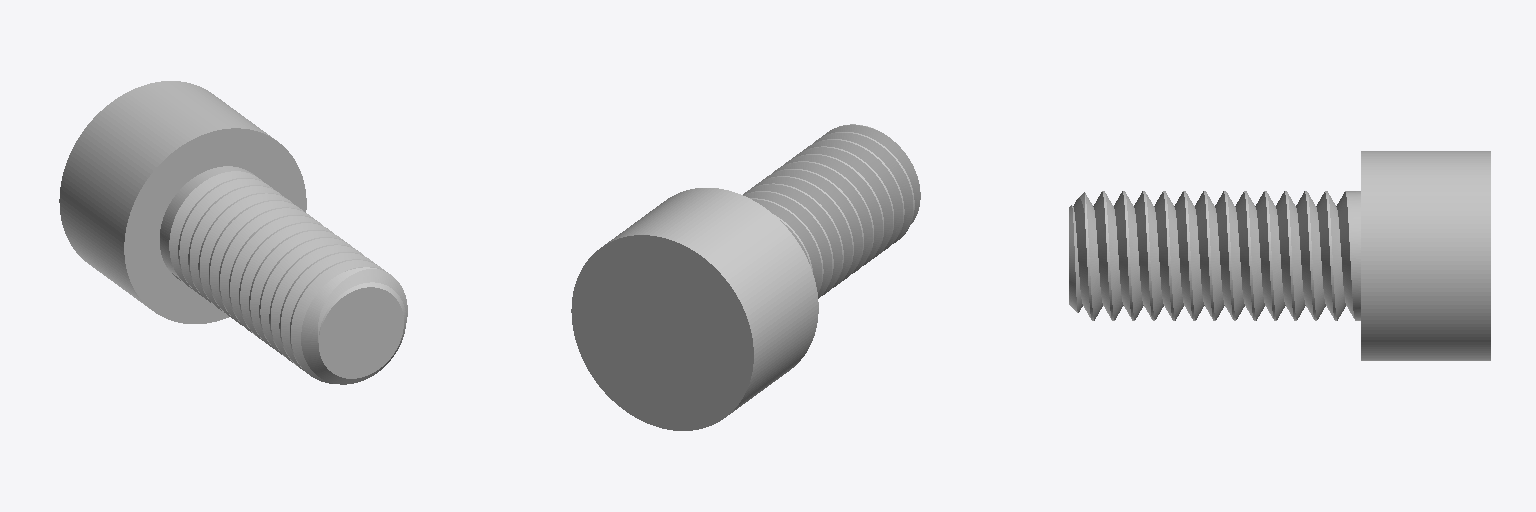
Rendered from factory_bolt_m8_tight.obj.
3 renders of one model, left to right at view 1: azimuth 30°, elevation 25°; view 2: azimuth 150°, elevation 25°; view 3: azimuth 270°, elevation 25°, orthographic.
Visible parts, largest first — view 1: mesh4, mesh1, mesh2, mesh8, mesh3, mesh7; view 2: mesh0, mesh1, mesh5, mesh3; view 3: mesh1, mesh4, mesh5, mesh3, mesh7.
Boxes of the visible parts, <box> form: mesh4: <box>169,171,407,383</box>; mesh1: <box>59,81,276,308</box>; mesh2: <box>124,128,306,323</box>; mesh8: <box>319,287,403,378</box>; mesh3: <box>160,166,387,367</box>; mesh7: <box>301,267,405,384</box>; mesh0: <box>571,235,753,430</box>; mesh1: <box>605,188,818,414</box>; mesh5: <box>743,125,920,298</box>; mesh3: <box>745,124,914,293</box>; mesh1: <box>1361,151,1490,360</box>; mesh4: <box>1073,191,1354,319</box>; mesh5: <box>1072,192,1345,320</box>; mesh3: <box>1085,191,1360,320</box>; mesh7: <box>1069,192,1084,312</box>.
Bounding box in the file's own units: 0.013 × 0.013 × 0.026.